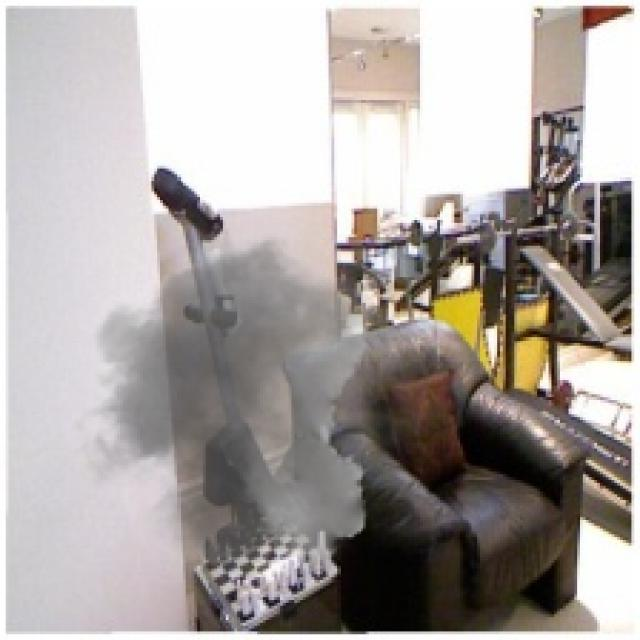smoke: (46, 209, 448, 597)
